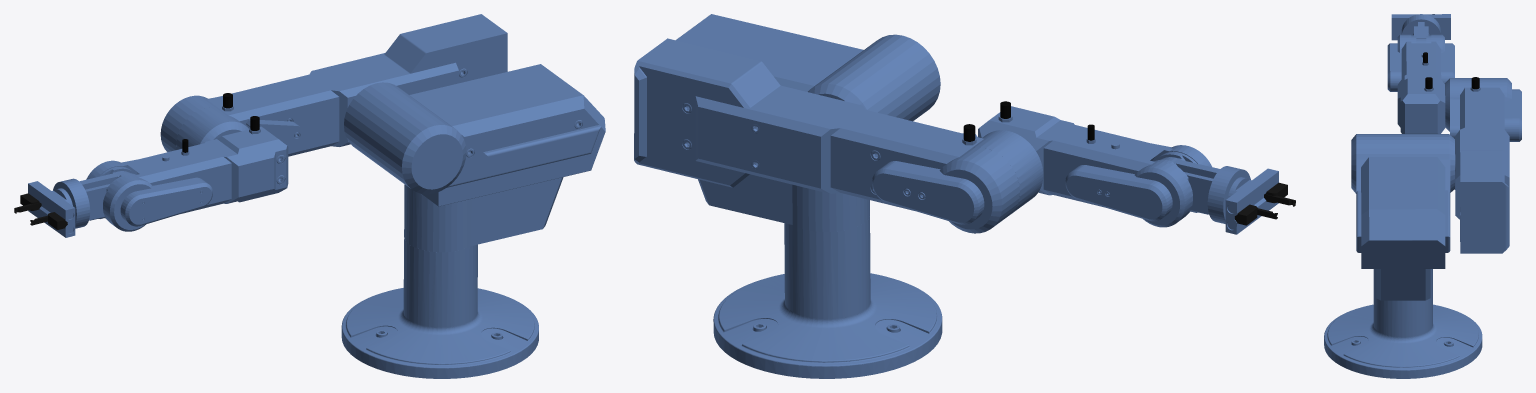
The model's file is scorbot 9 en L.fbx.
3 renders of one model, left to right at view 1: azimuth 30°, elevation 25°; view 2: azimuth 150°, elevation 25°; view 3: azimuth 270°, elevation 25°, orthographic. The views are drawn at different scales.
Visible parts, largest first — view 1: Hombro, Brazo 1, Base, Brazo 2, Antebrazo, Muñeca; view 2: Brazo 1, Base, Hombro, Brazo 2, Antebrazo, Muñeca; view 3: Hombro, Brazo 1, Base, Brazo 2, Antebrazo, Muñeca.
Boxes of the visible parts, <box> form: Hombro: <box>344,64,605,252</box>; Brazo 1: <box>160,14,507,156</box>; Base: <box>341,238,538,378</box>; Brazo 2: <box>86,116,288,231</box>; Antebrazo: <box>53,166,136,228</box>; Muñeca: <box>28,181,75,237</box>; Brazo 1: <box>634,38,1043,233</box>; Base: <box>713,215,942,378</box>; Hombro: <box>676,14,940,231</box>; Brazo 2: <box>978,101,1211,227</box>; Antebrazo: <box>1154,151,1250,223</box>; Muñeca: <box>1225,168,1278,234</box>; Hombro: <box>1351,134,1455,300</box>; Brazo 1: <box>1445,77,1521,253</box>; Base: <box>1324,269,1482,378</box>; Brazo 2: <box>1387,34,1454,133</box>; Antebrazo: <box>1401,14,1440,43</box>; Muñeca: <box>1391,14,1450,40</box>.
Bounding box in the file's own units: 106 × 46.92 × 41.28.
